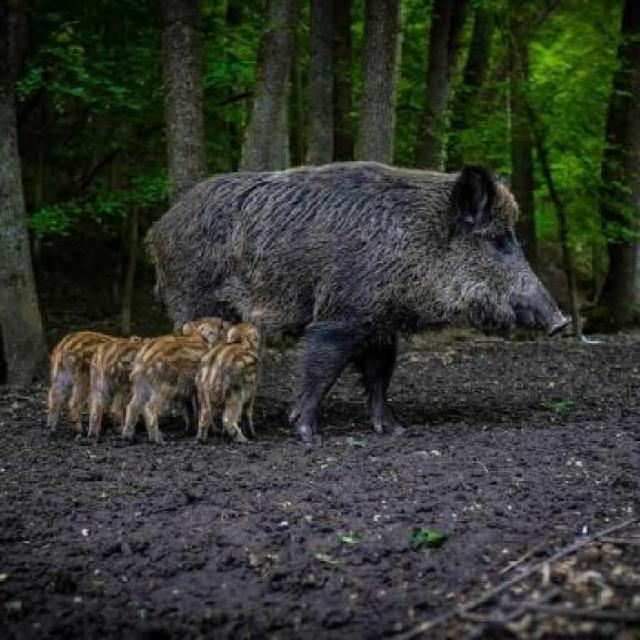wildboar: (138, 154, 574, 452), (128, 298, 248, 442), (40, 327, 160, 436), (88, 321, 178, 436), (194, 310, 269, 444)
